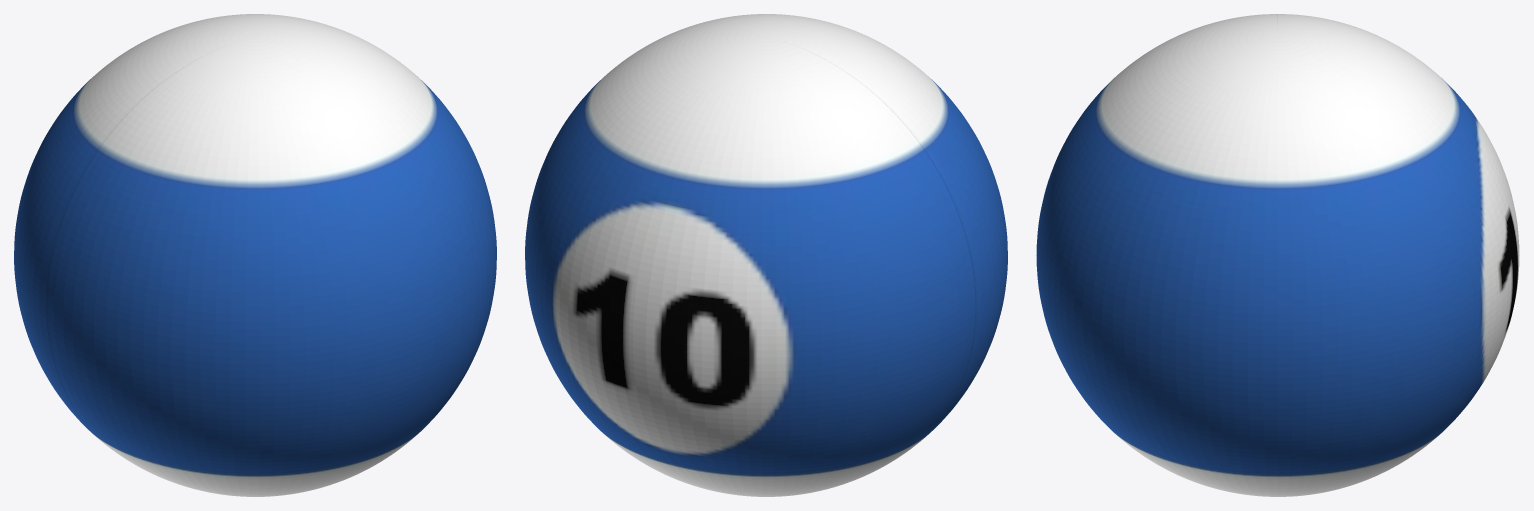
Rendered from TenBall.obj.
3 renders of one model, left to right at view 1: azimuth 30°, elevation 25°; view 2: azimuth 150°, elevation 25°; view 3: azimuth 270°, elevation 25°, orthographic.
Parts seen in each view (by area): view 1: Sphere; view 2: Sphere; view 3: Sphere.
Part boxes in pixels (left/top/right/bottom): Sphere: left=14, top=14, right=496, bottom=496; Sphere: left=525, top=14, right=1007, bottom=496; Sphere: left=1036, top=14, right=1519, bottom=496.
Bounding box in the file's own units: 2 × 2 × 2.
